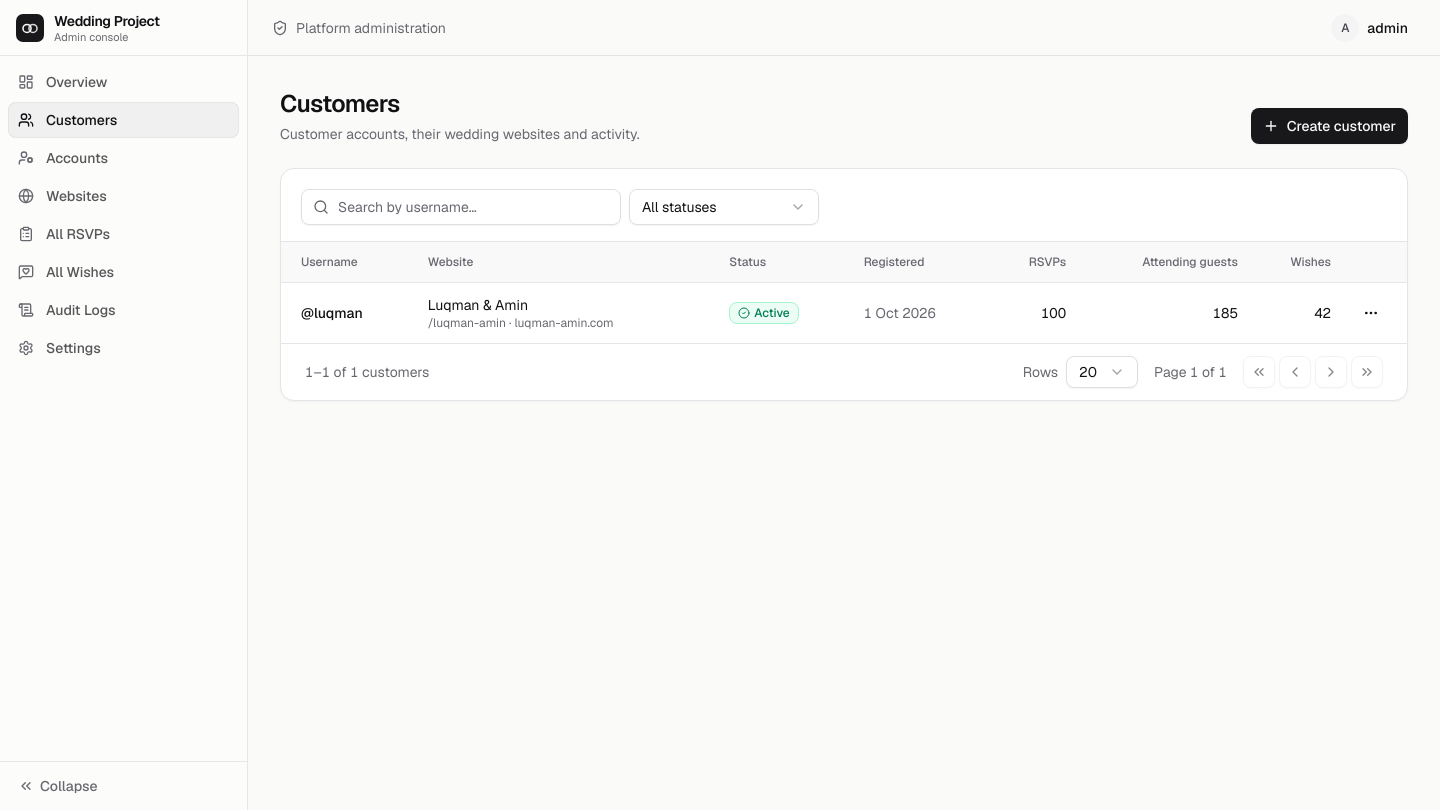
Scenario: Admin customer management › creates a customer without a website by default
Click the button "Create customer" at (1329, 126), box [1251,108,1408,144]
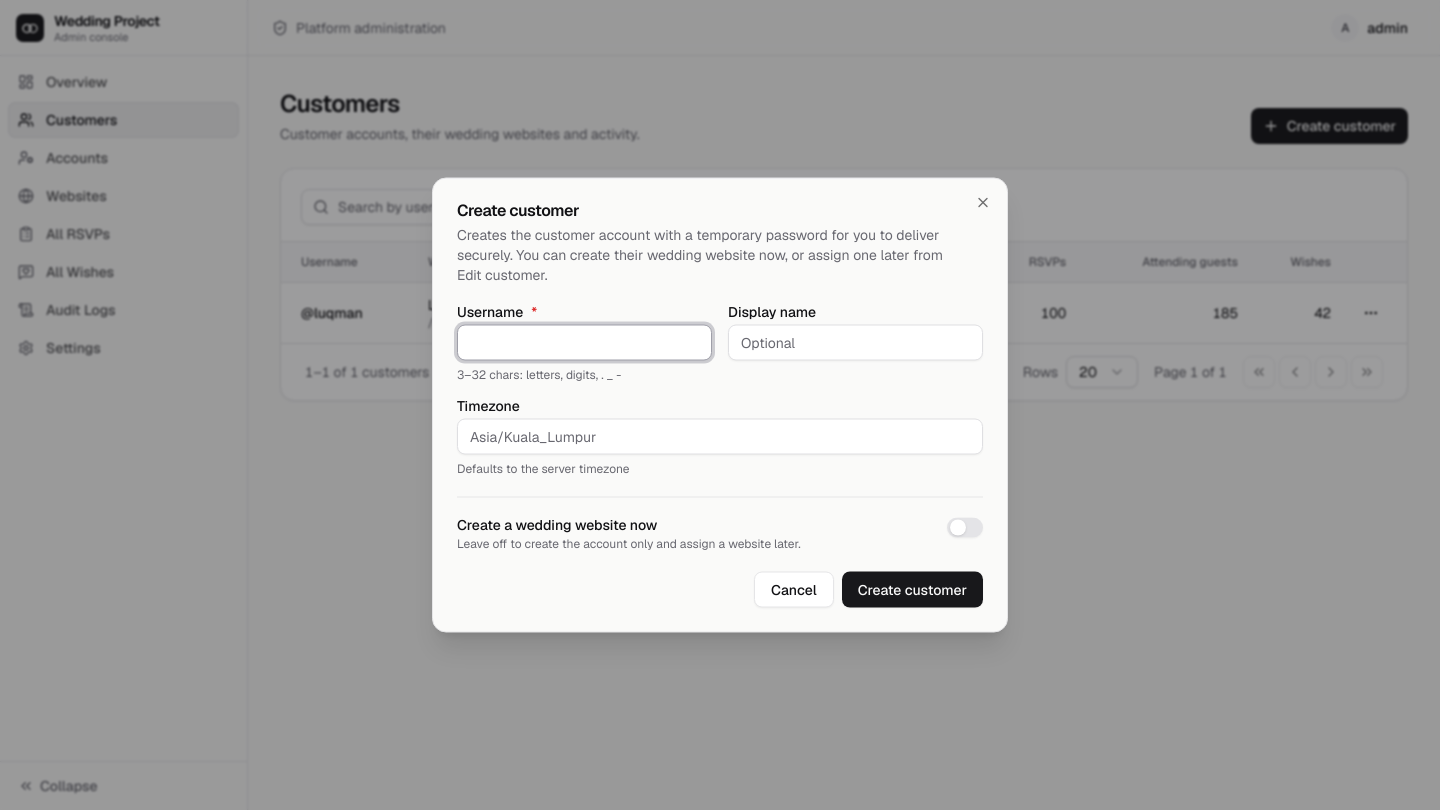
Type "sarah" into the field labelled "Username *" at (584, 342), box [457,324,712,360]
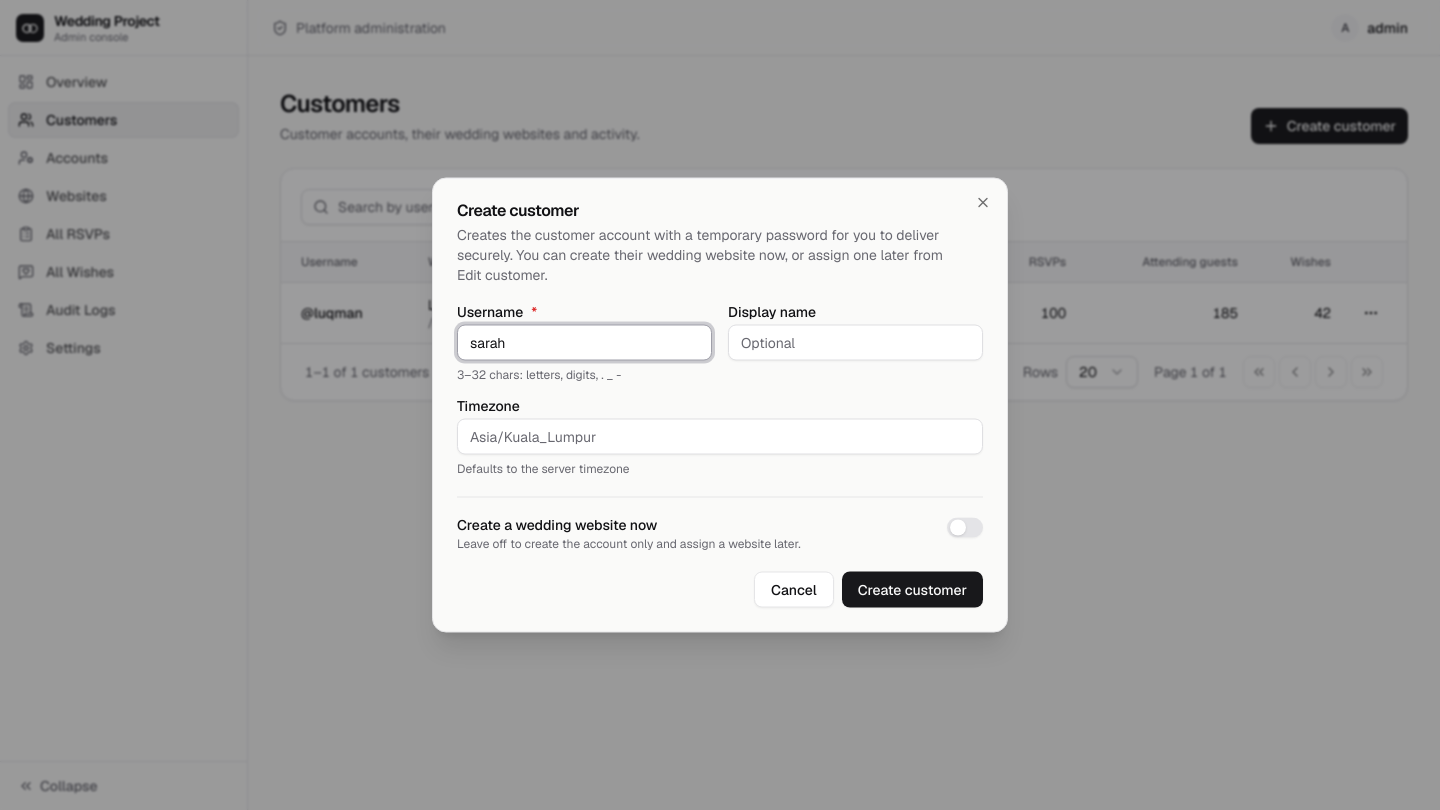
Click the button "Create customer" at (912, 590), box [842,572,983,608]
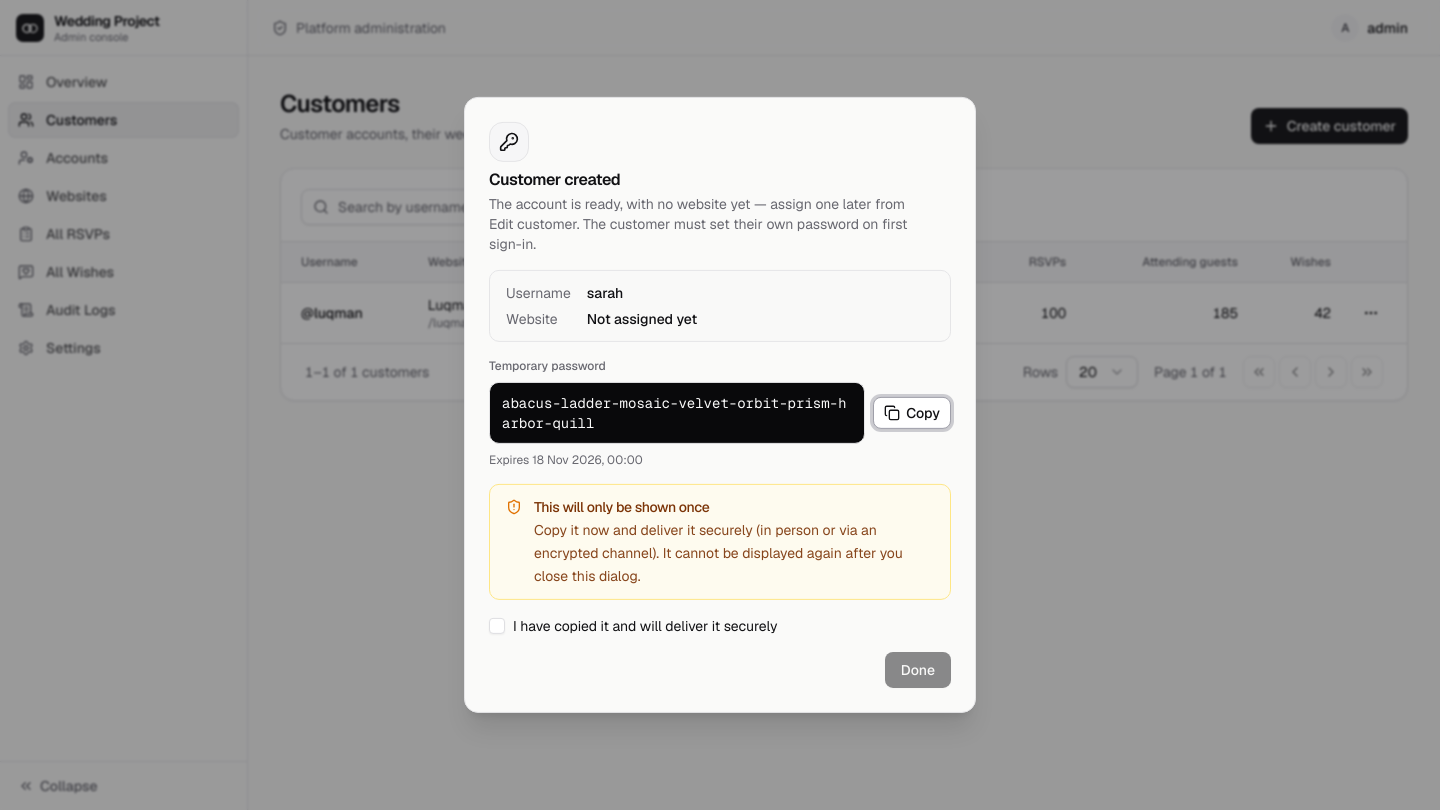
Expected: the text with test id "one-time-secret" shows "abacus-ladder-mosaic", [502,394,846,432]
Expected: the text "Not assigned yet" is shown, [587,310,697,328]
